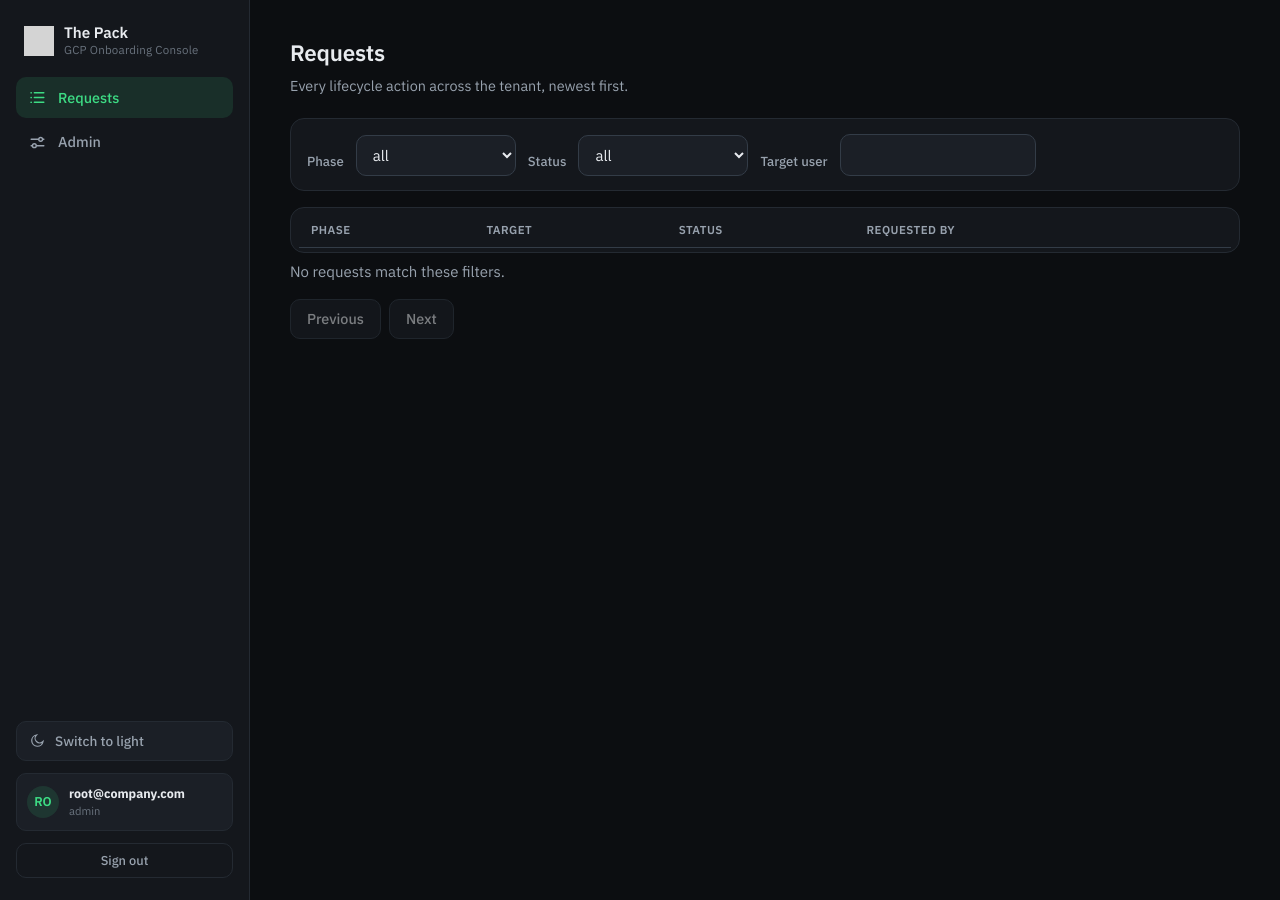
Test: REQ-012 AC-5: the admin surface is reachable, and only by admins › renders the bindings the server holds
Click the button "Admin". click: (124, 142)
box: [16,121,233,163]
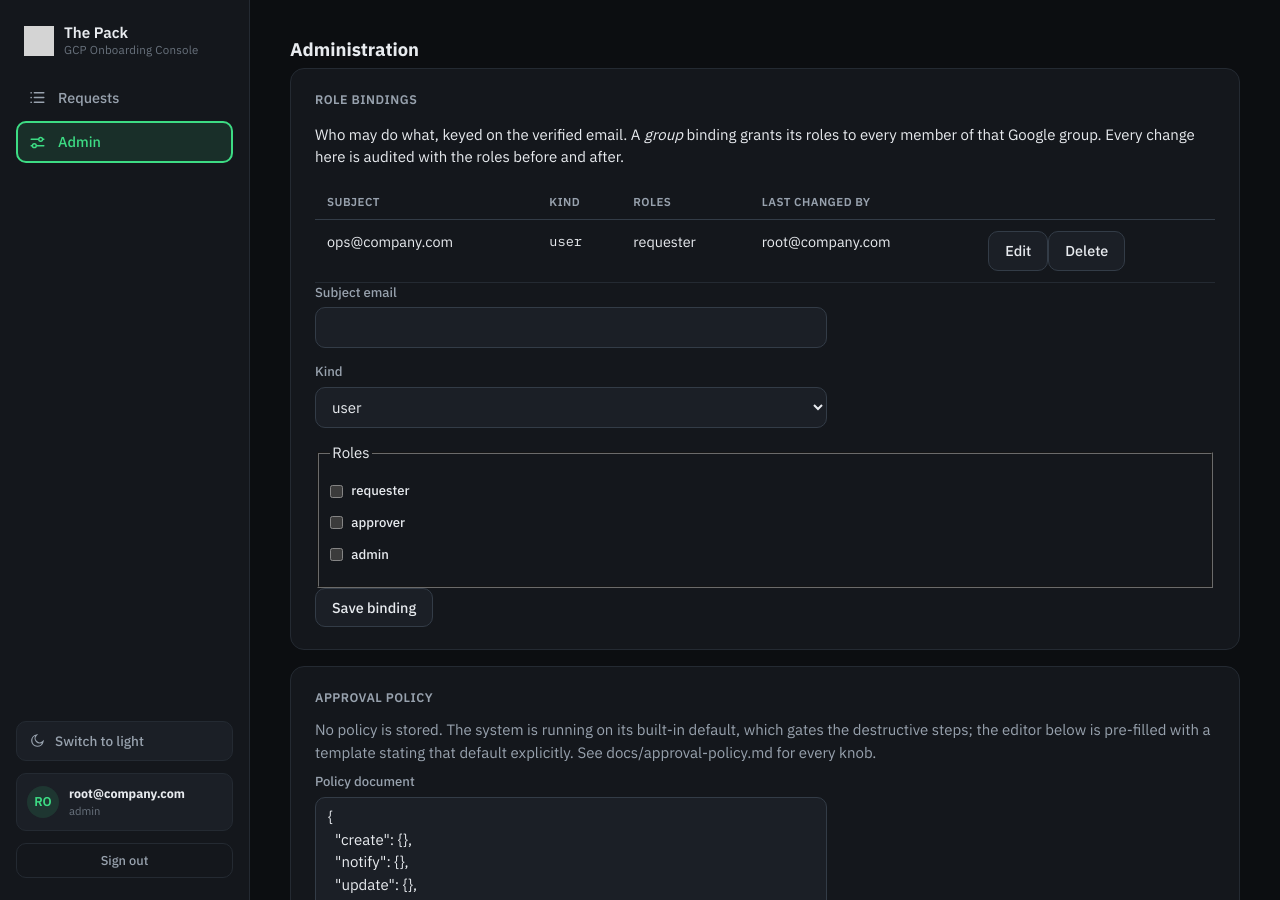
Check: the text "ops@company.com" is shown, box [315,219,537,282]
Check: the text "running on its built-in default" is shown, box [315,720,1210,762]
